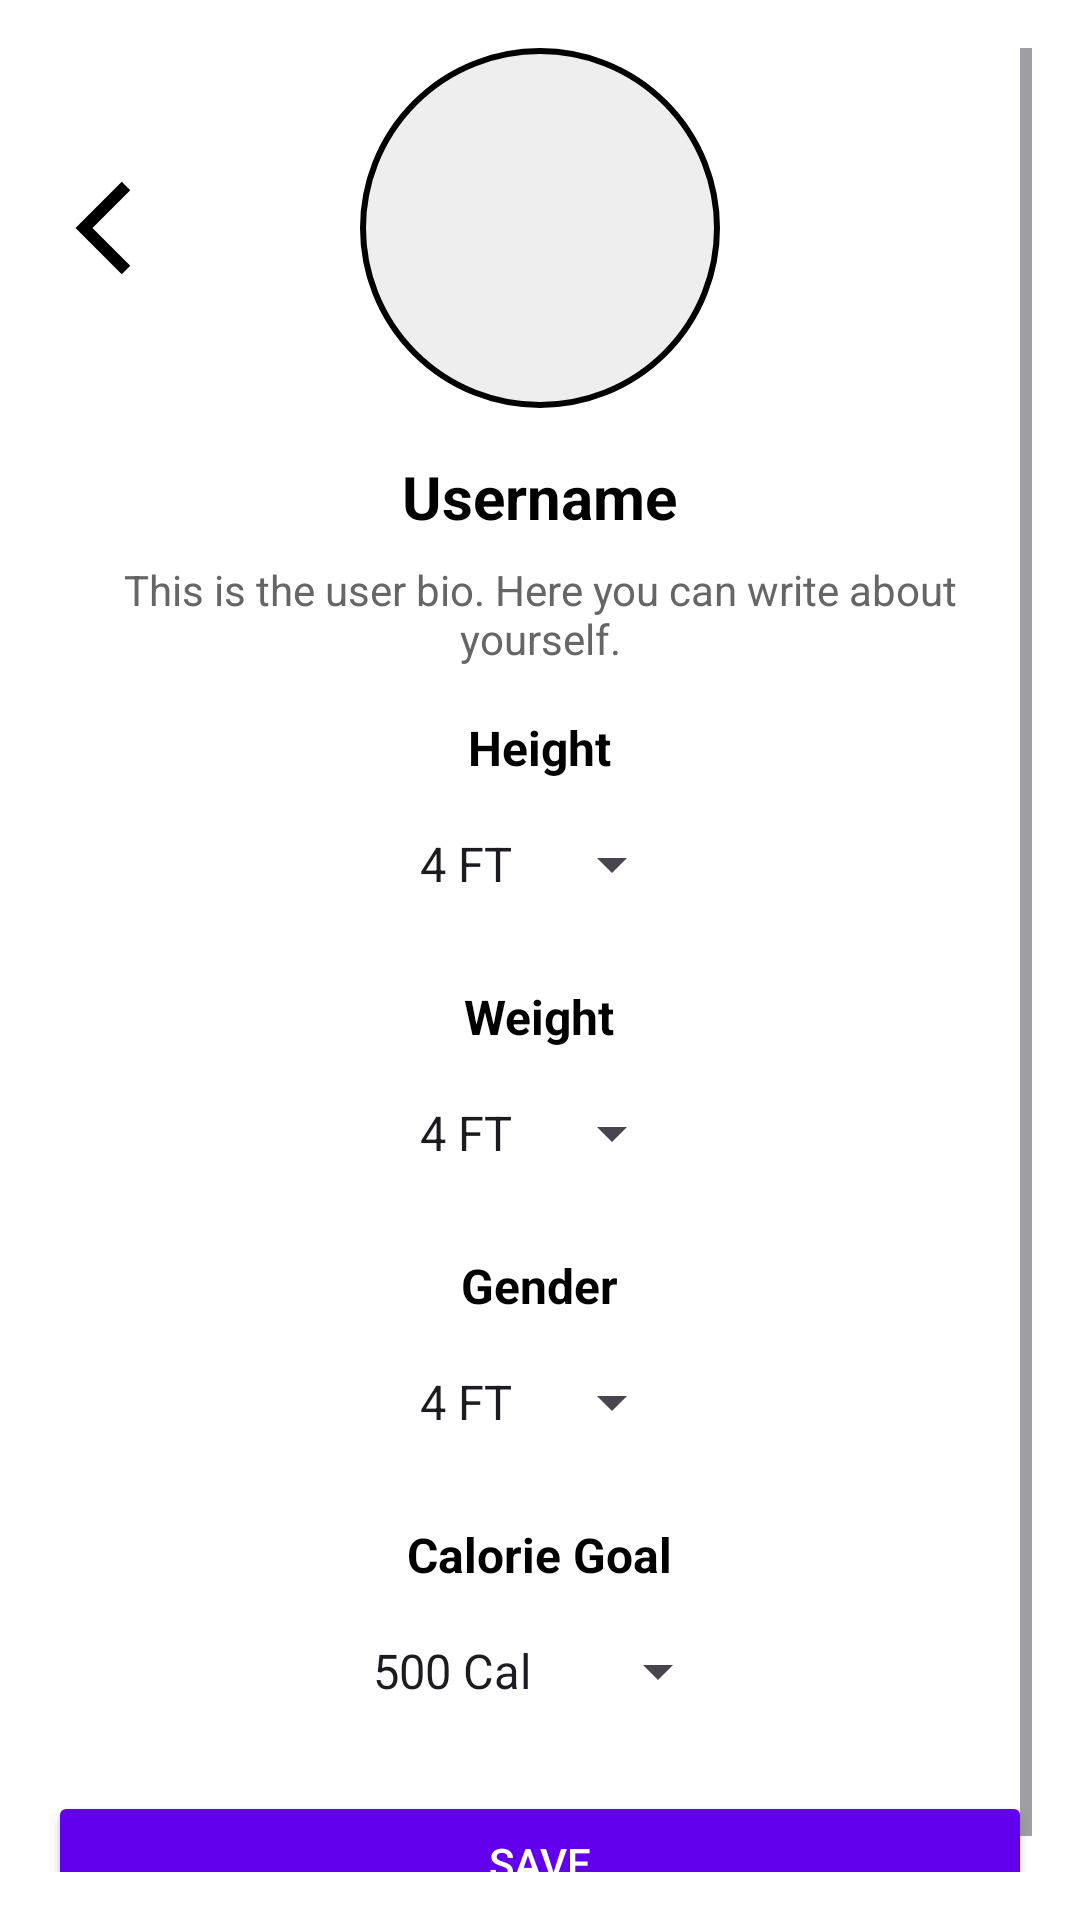

Locate icon controls on the screen. Image size 1080 x 1920, boxes as (x1, y1, x2, y2).
Back Button: (75, 182, 130, 274)
